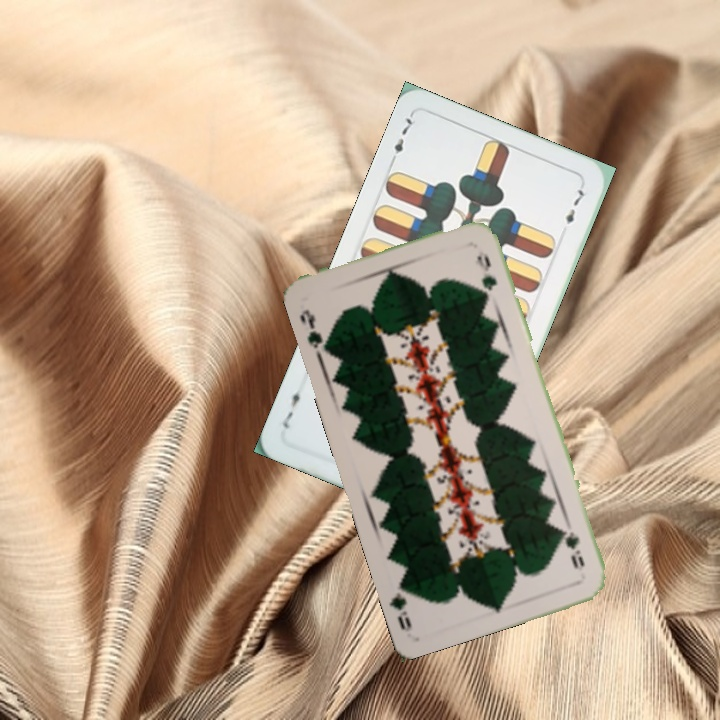E7: (386, 110, 416, 167)
G9: (295, 305, 331, 354), (558, 523, 587, 572)
